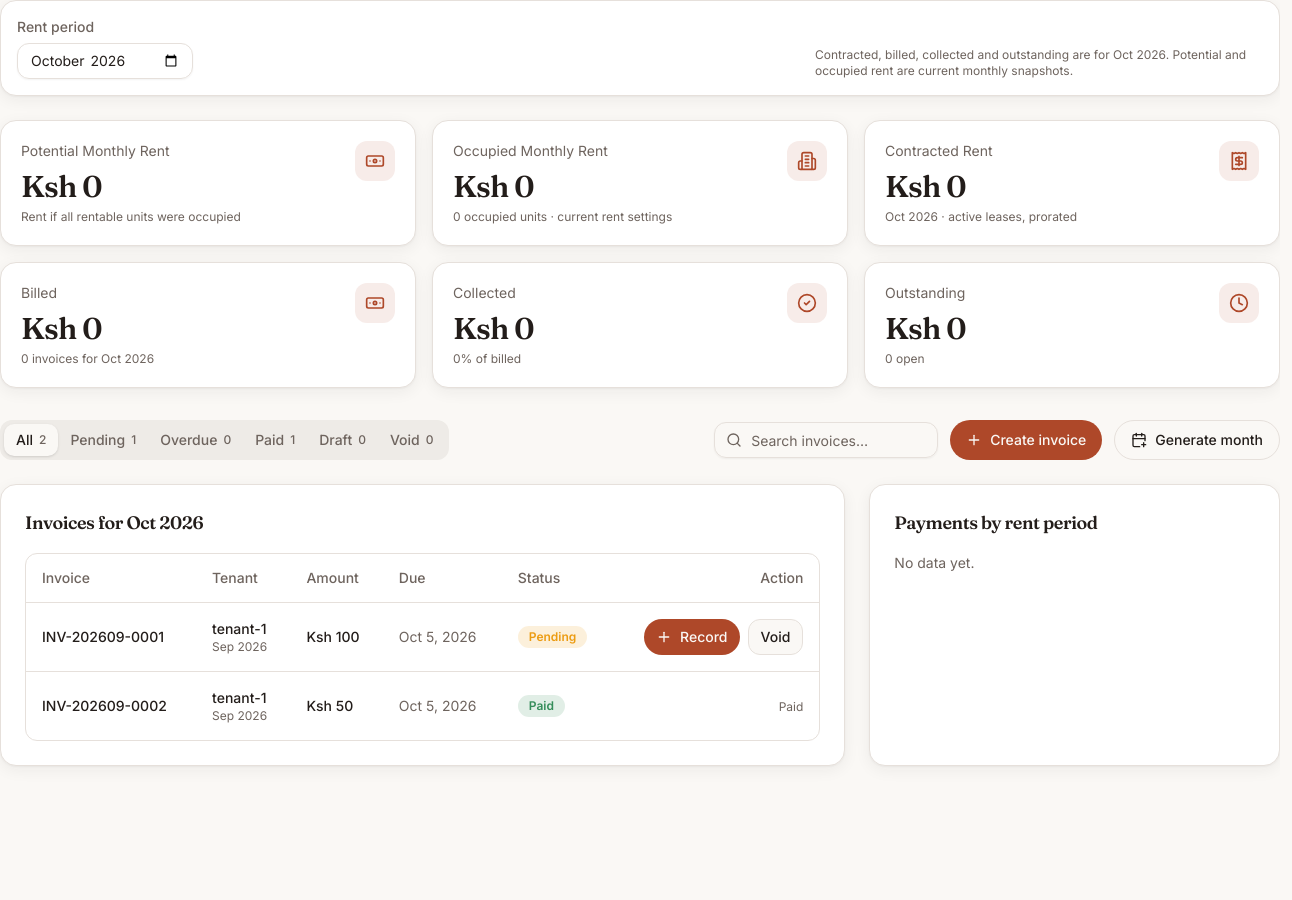
Test: InvoicesManager › filters rows client-side by tab
This screenshot has width=1292, height=900.
Expected: the text "INV-202609-0001" is shown, [26, 602, 196, 671]
Expected: the text "INV-202609-0002" is shown, [26, 671, 196, 740]
Note: tabs render in order: all, pending, overdue, paid, draft, void
Click the tab "paid 1": (275,440) [243, 424, 307, 456]
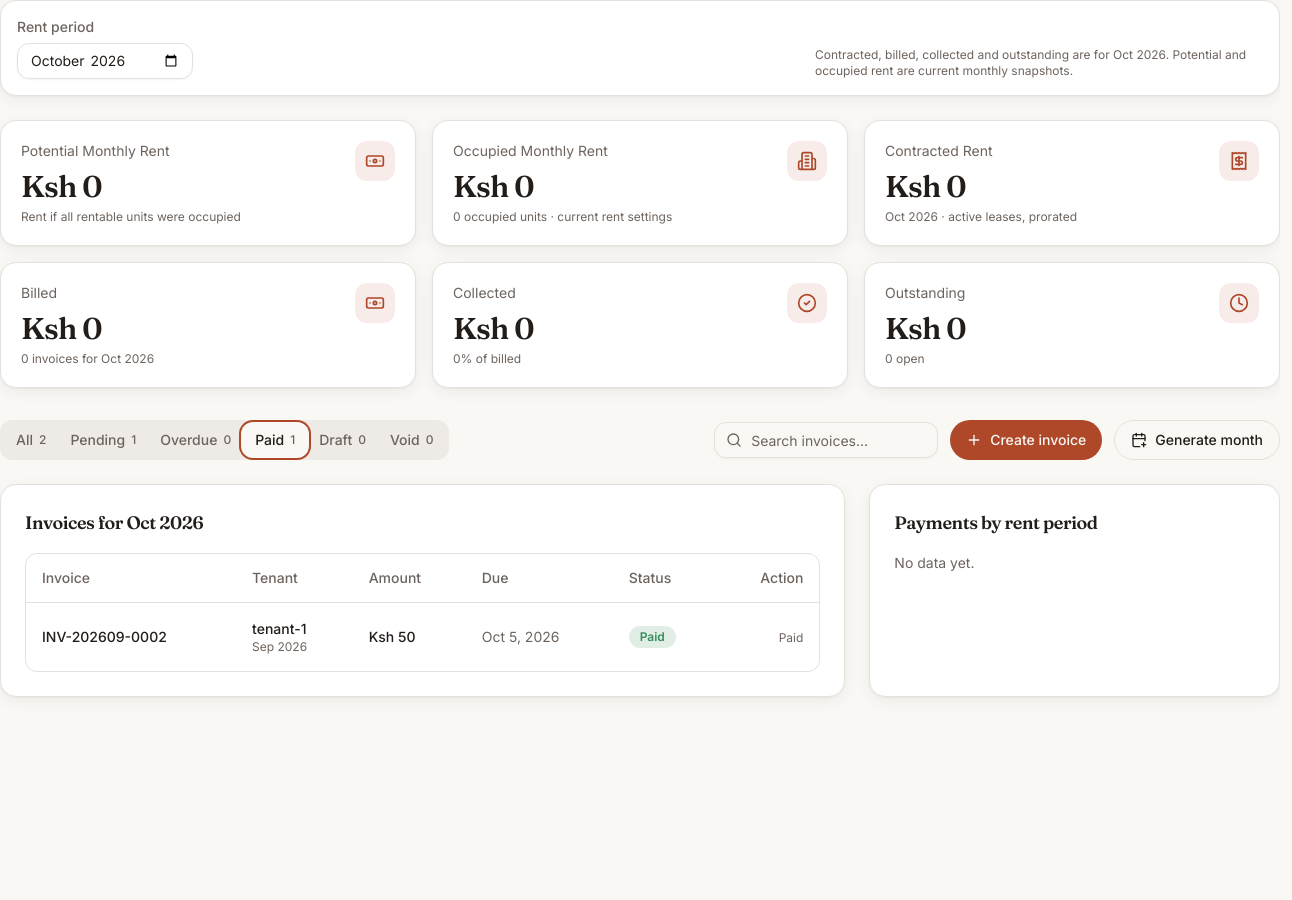
Expected: the text "INV-202609-0002" is shown, [26, 602, 236, 670]
Result: the text "INV-202609-0001" is gone
